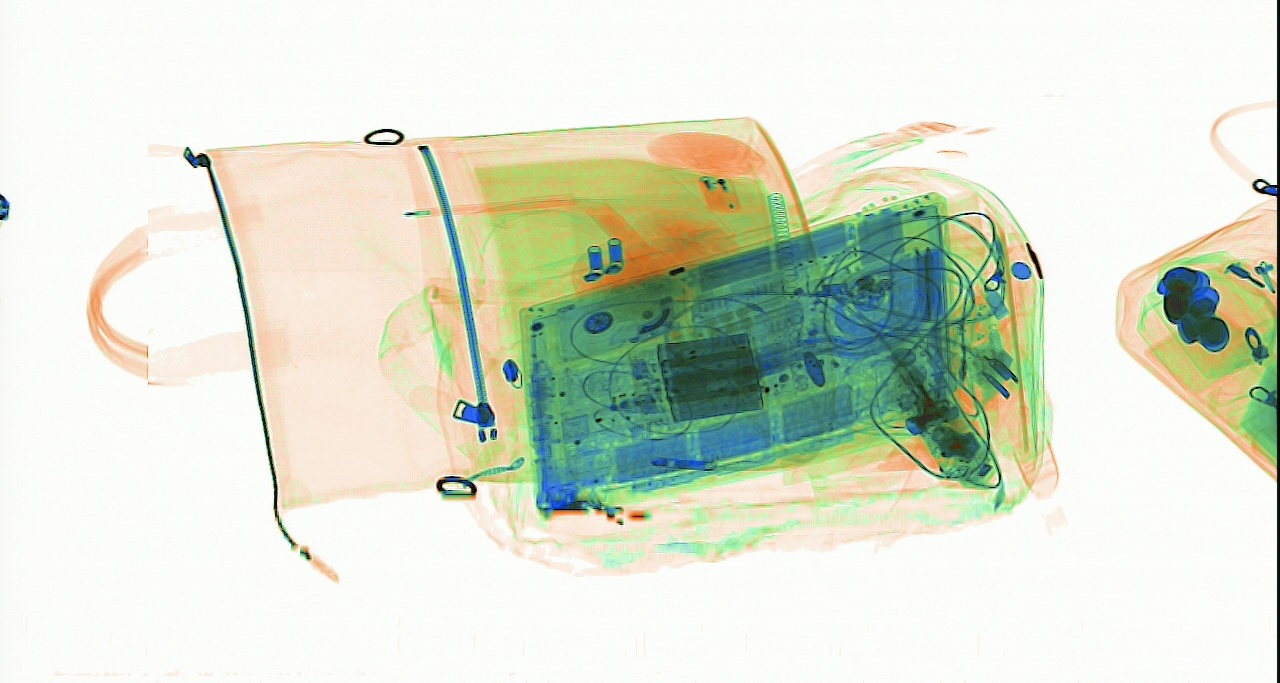lighter: (692, 168, 740, 212)
powerbank: (626, 329, 767, 423)
